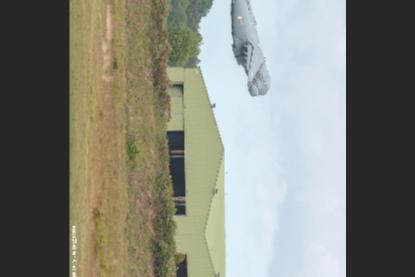C2: (231, 0, 272, 97)
